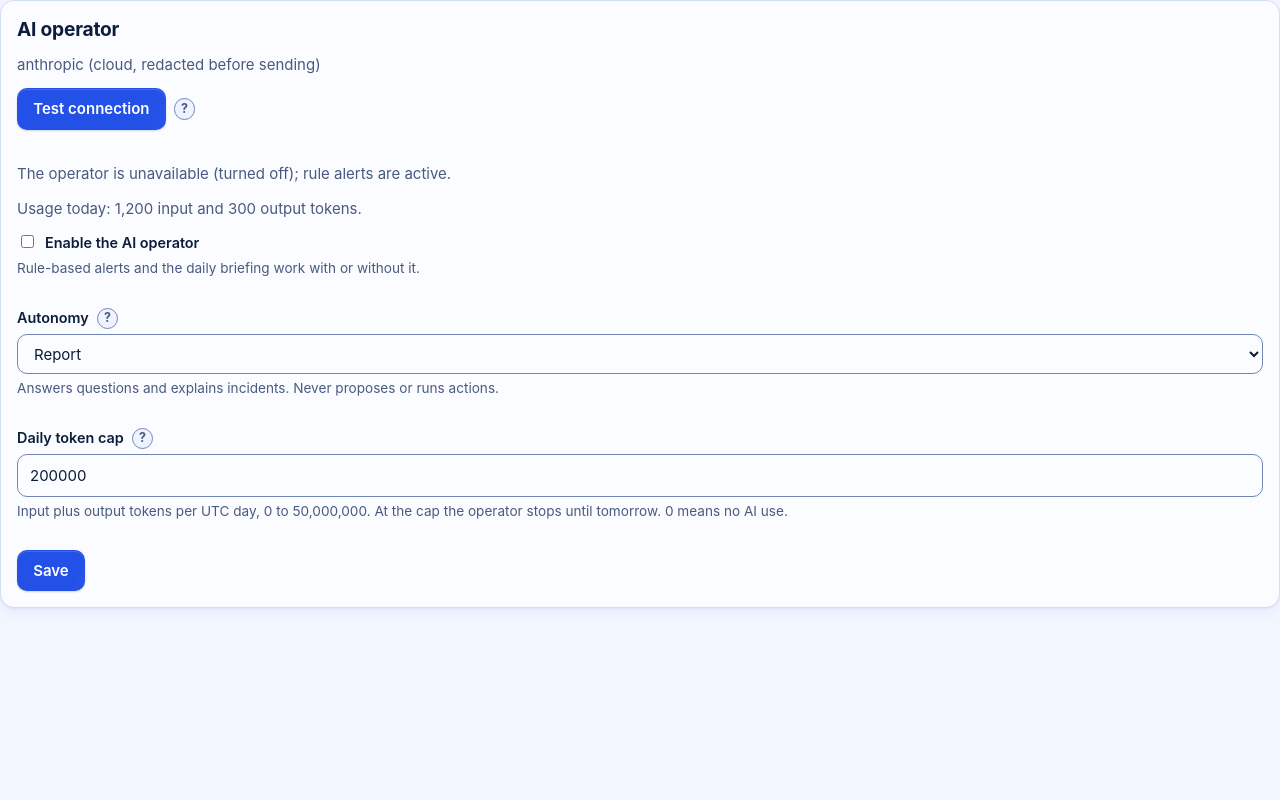
Test case: OperatorSettingsSection › shows provider, usage and status, and saves changes
Check: the text with test id "operator-provider" reads "anthropic (cloud, redacted before sending)", box [17,55,321,74]
Check: the text with test id "operator-usage" shows "1,200 input and 300 output", box [17,199,362,218]
Click the checkbox labelled "Enable the AI operator": (28, 242) [21,235,34,248]
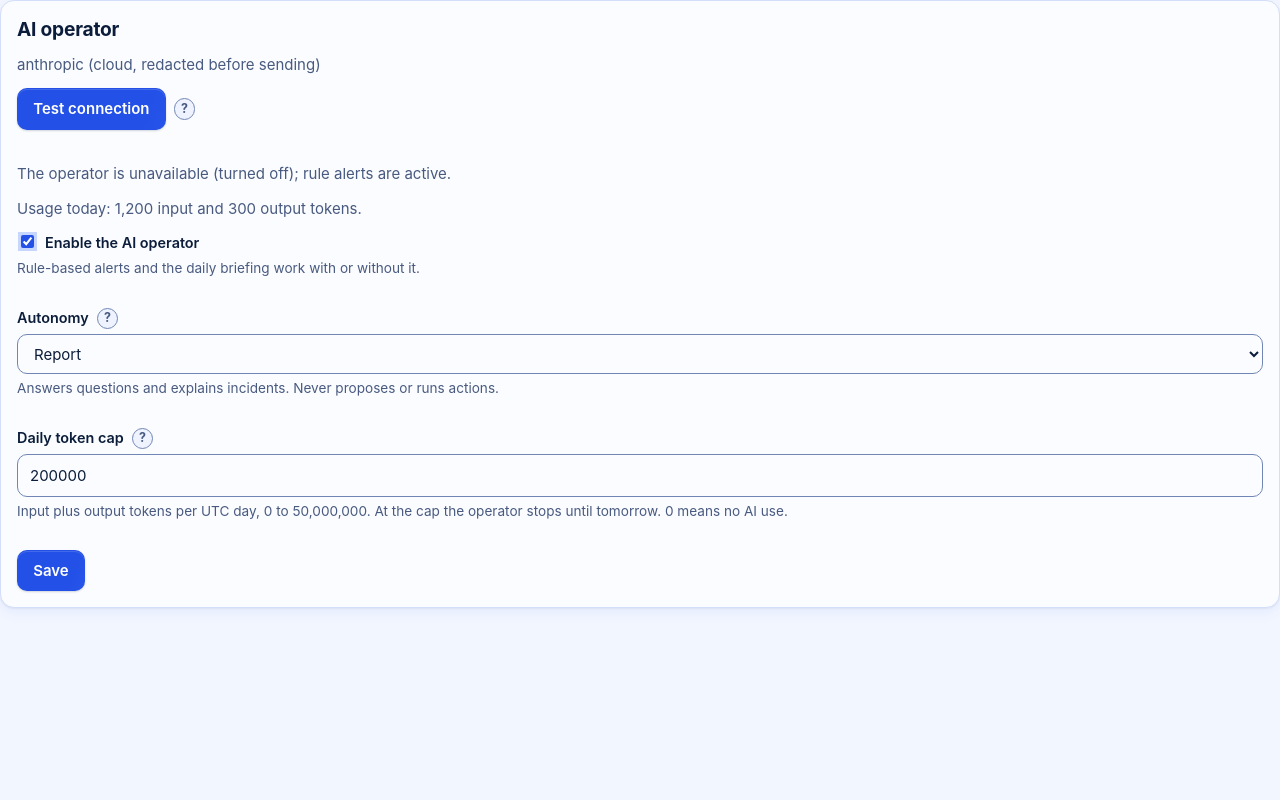
Select "Act" in the dropdown labelled "Autonomy": (640, 354) [17,334,1263,374]
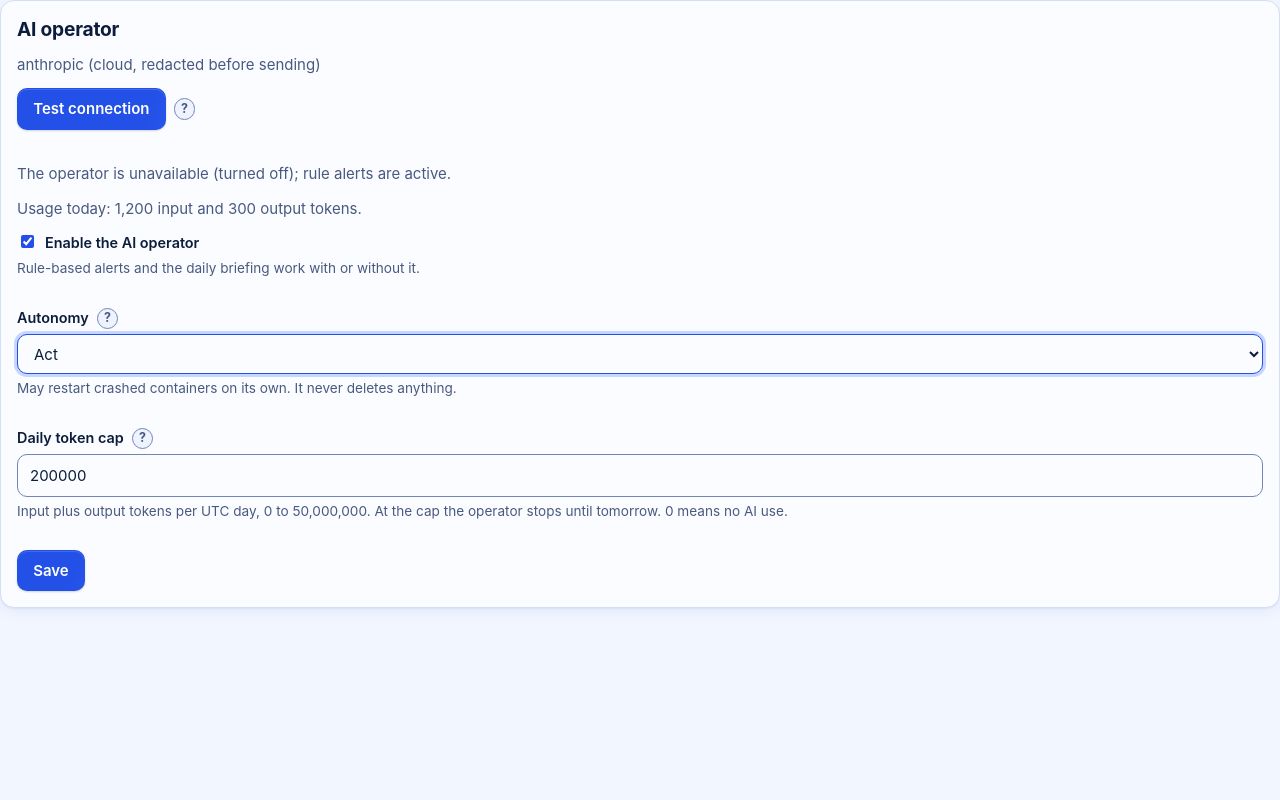
Check: the text with id "operator-autonomy-help" shows "restart crashed containers on its own. It never deletes anything.", box [17,380,457,396]
Replace the text in the number field labelled "Daily token cap" with "5000": (640, 475) [17,454,1263,496]
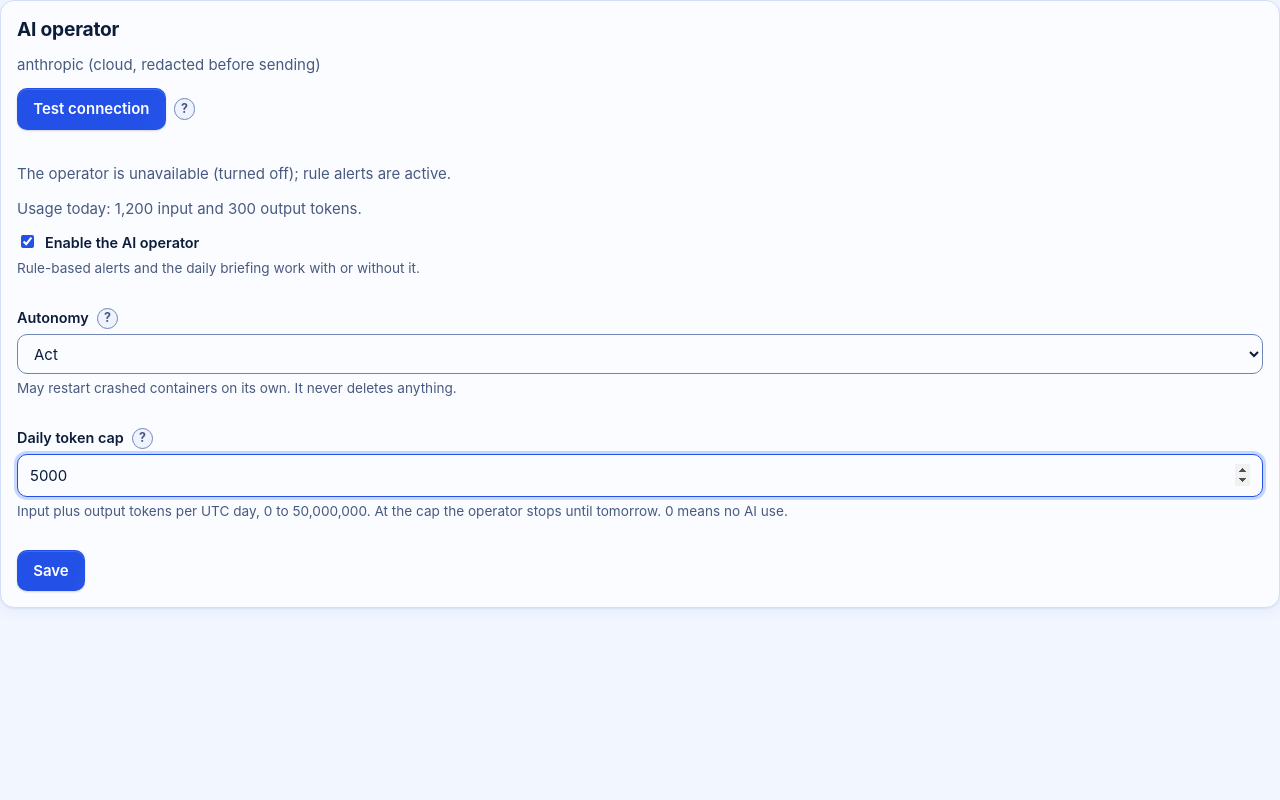
Click the button "Save": (51, 570) [17,550,85,591]
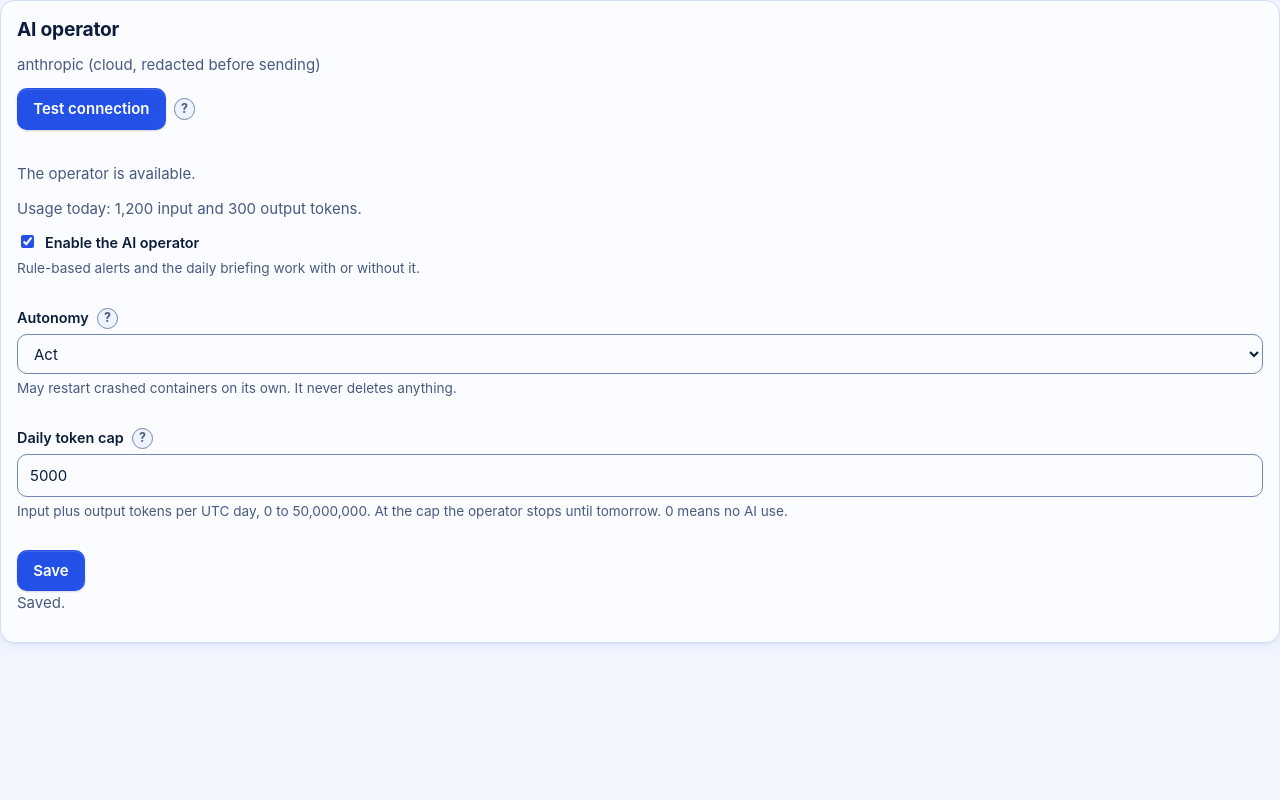
Check: the text with test id "operator-status" shows "available", box [17,164,196,182]
Check: the text "Saved." is shown, box [17,593,65,612]
